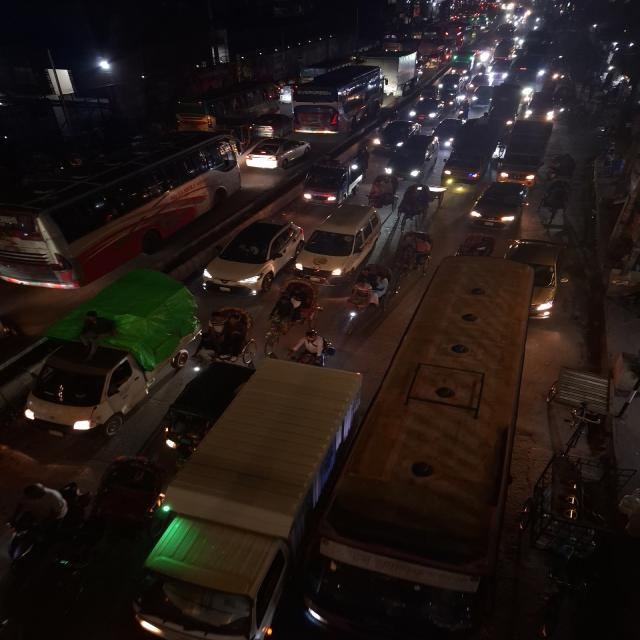bus: (0, 134, 235, 288), (292, 64, 389, 138), (175, 79, 282, 131)
car: (201, 214, 302, 296), (296, 202, 384, 278), (503, 235, 572, 322), (299, 156, 362, 208), (442, 129, 494, 192), (468, 180, 532, 230), (244, 136, 312, 172), (385, 135, 438, 180), (372, 119, 422, 149), (510, 53, 547, 93), (526, 90, 566, 122), (249, 113, 292, 137), (408, 96, 444, 122), (432, 118, 460, 148), (488, 57, 512, 81), (438, 73, 463, 95)
cng: (161, 365, 235, 453), (469, 84, 494, 116)
pickup_van: (18, 269, 197, 437)
rickshaw: (63, 452, 167, 582), (262, 275, 324, 343), (195, 306, 258, 368), (340, 264, 393, 331), (394, 182, 444, 229), (538, 178, 574, 226), (397, 228, 434, 274), (364, 173, 398, 209), (453, 231, 494, 258), (546, 152, 578, 184)
truck: (131, 362, 391, 640)
